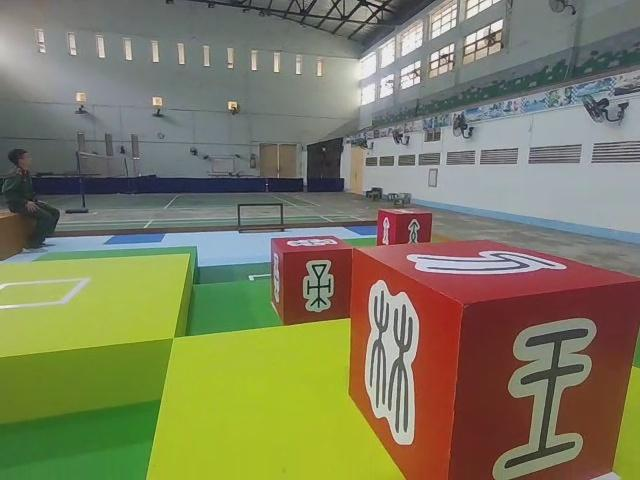R2 Fake: (348, 238, 640, 480)
R2 Real: (271, 233, 352, 324), (375, 205, 435, 252)
